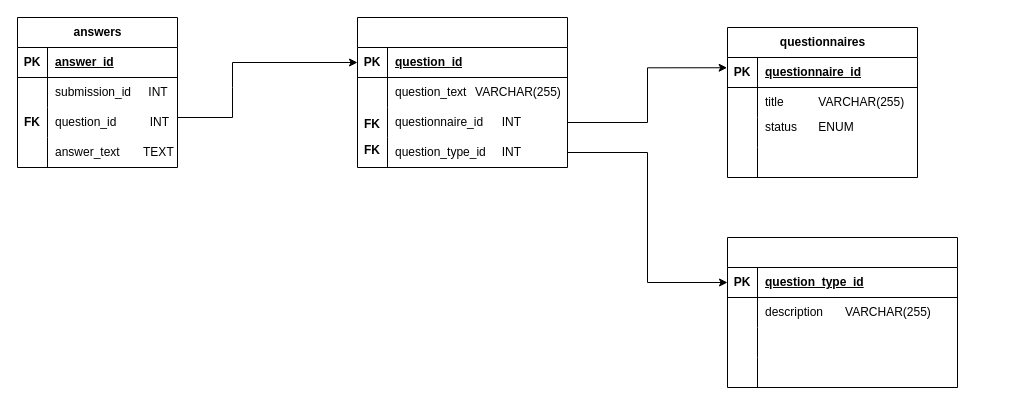
Some shapes in this 1035 by 405 pixel diagram are drawn without their labels. The box of each missing label's shape, as (x1, y1, x2, y2) in pixels:
question_types: (726, 236, 958, 388)
questions: (356, 16, 568, 168)
